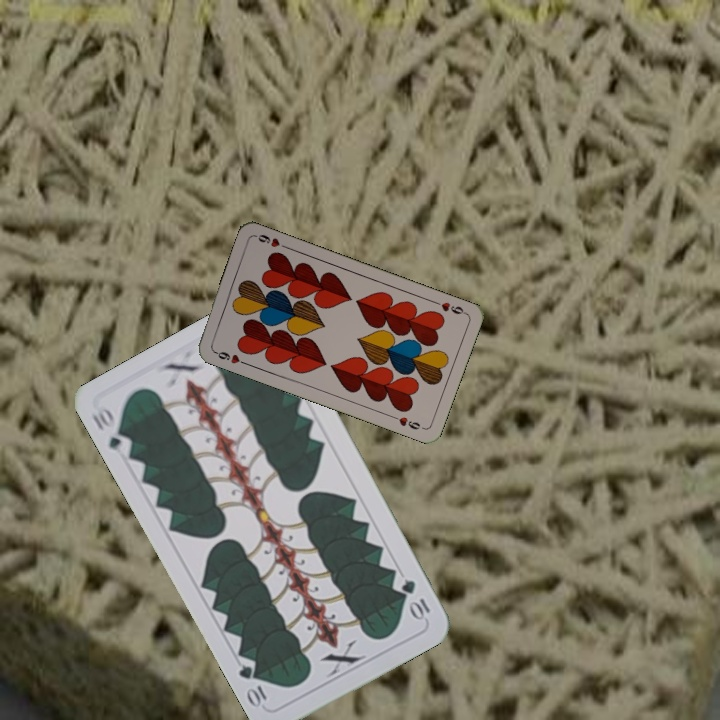G10: (88, 403, 135, 460), (397, 575, 433, 623)
H9: (429, 297, 469, 317), (210, 347, 249, 367)
